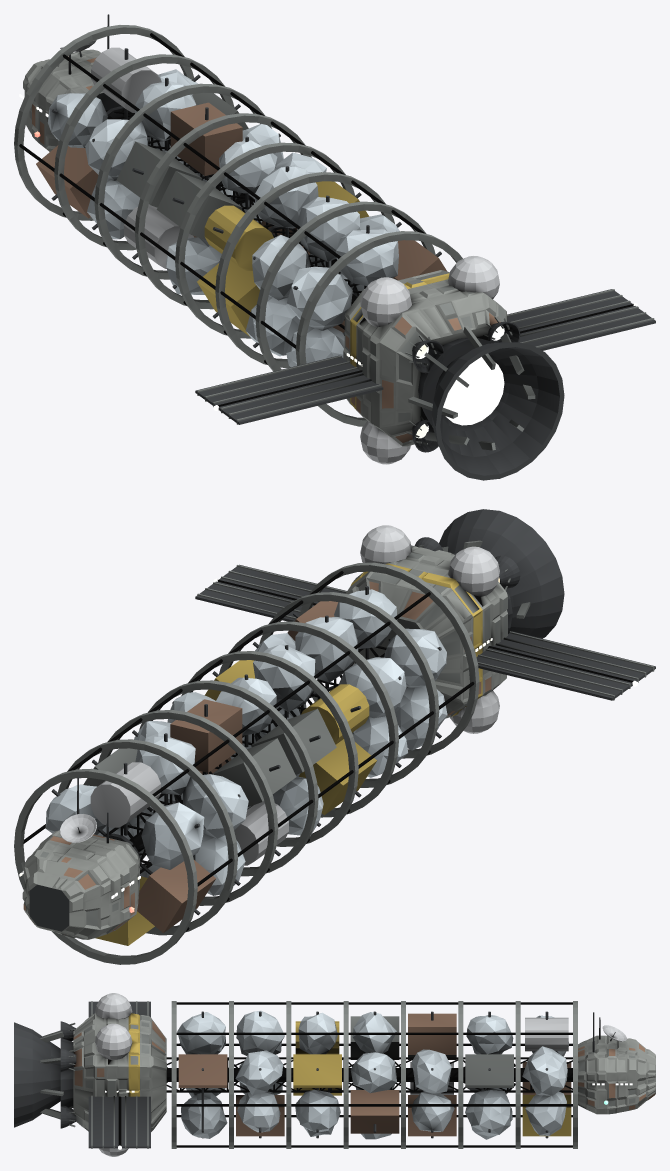
File: hauler.glb
3 renders of one model, top to bottom at view 1: azimuth 30°, elevation 25°; view 2: azimuth 150°, elevation 25°; view 3: azimuth 270°, elevation 25°, orthographic. The views are drawn at different scales.
Parts seen in each view (by area): view 1: body; view 2: body; view 3: body.
Boxes of the visible parts, box(x1,y1,x2,y2) form: body: box(14, 14, 655, 480); body: box(14, 509, 655, 964); body: box(14, 993, 655, 1156).
Bounding box in the file's own units: 0.5592 × 0.239 × 1.03.
